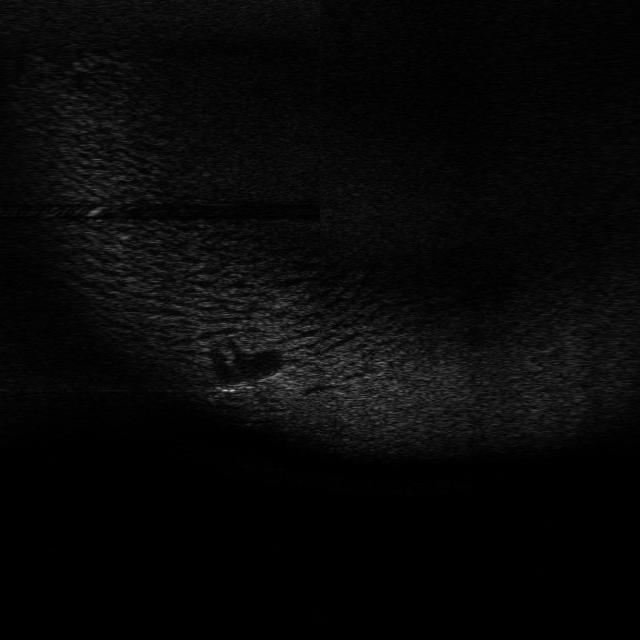plane: (206, 368, 290, 401)
